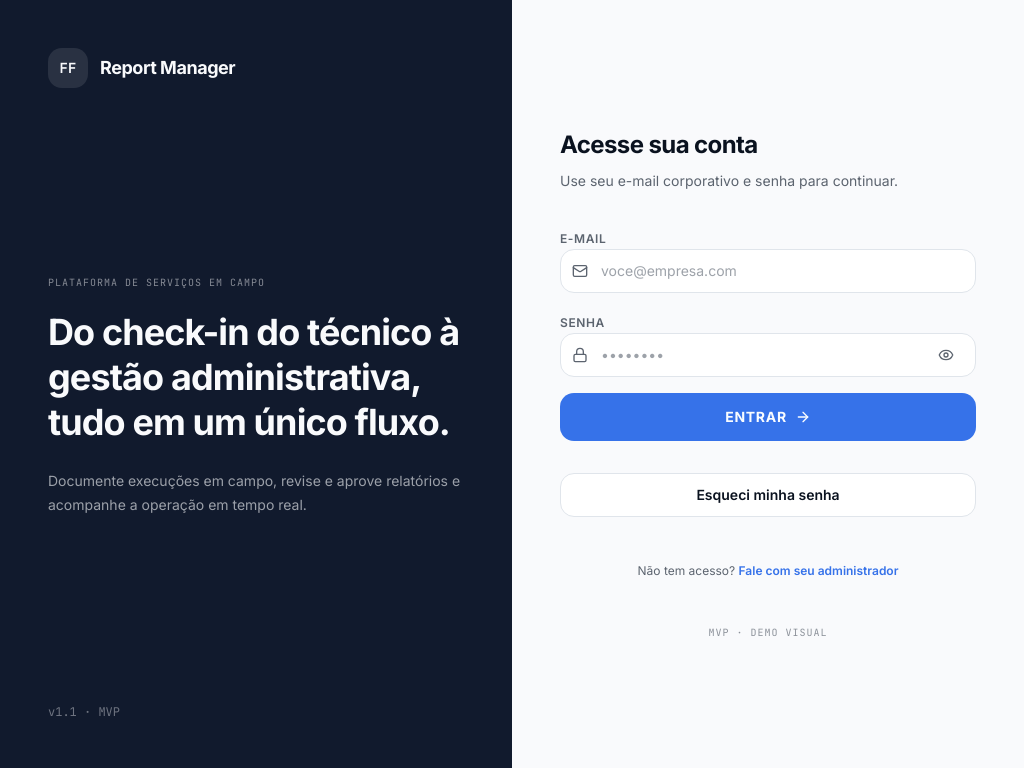
Scenario: App › shows a generic error for invalid mock credentials
In the field labelled "E-mail": (768, 270) [560,248,976,292], type "unknown@reportmanager.local"
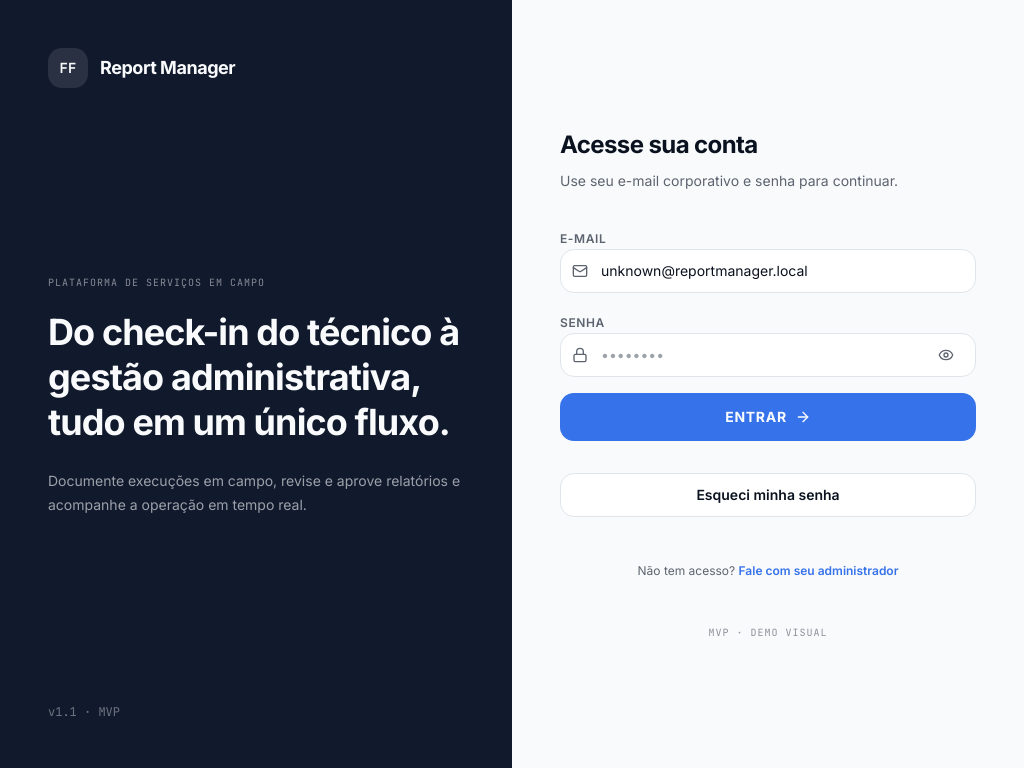
In the password field labelled "Senha": (768, 354) [560,332,976,376], type "incorrect"
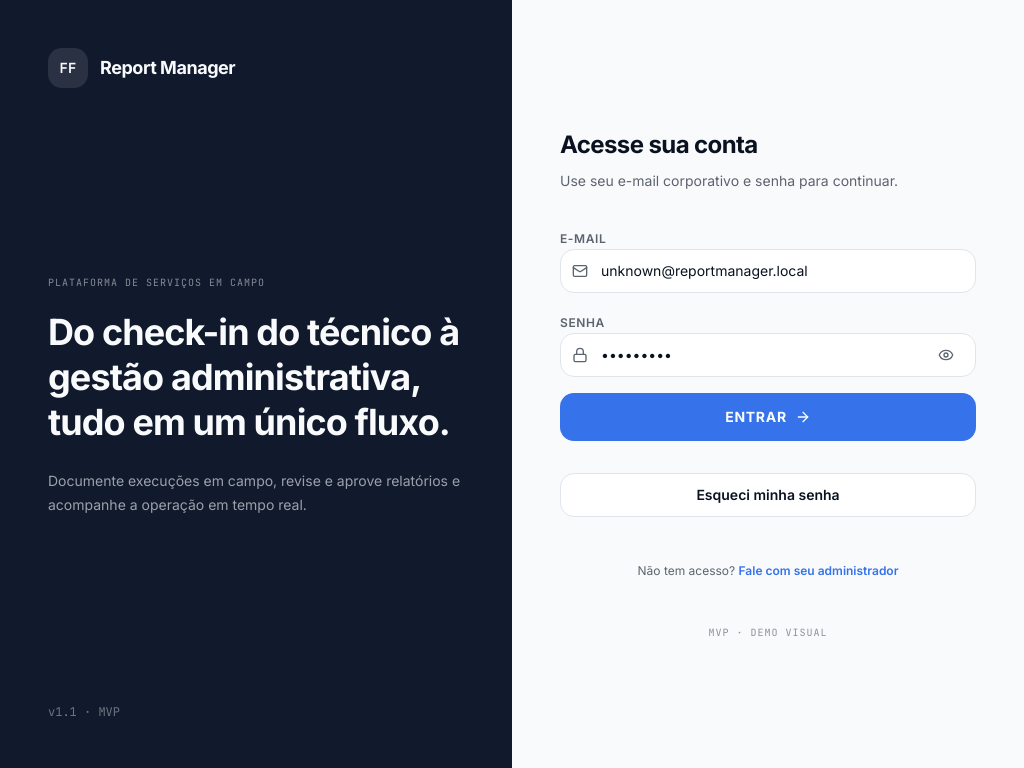
Click the button "Entrar": click(768, 416) [560,392,976,440]
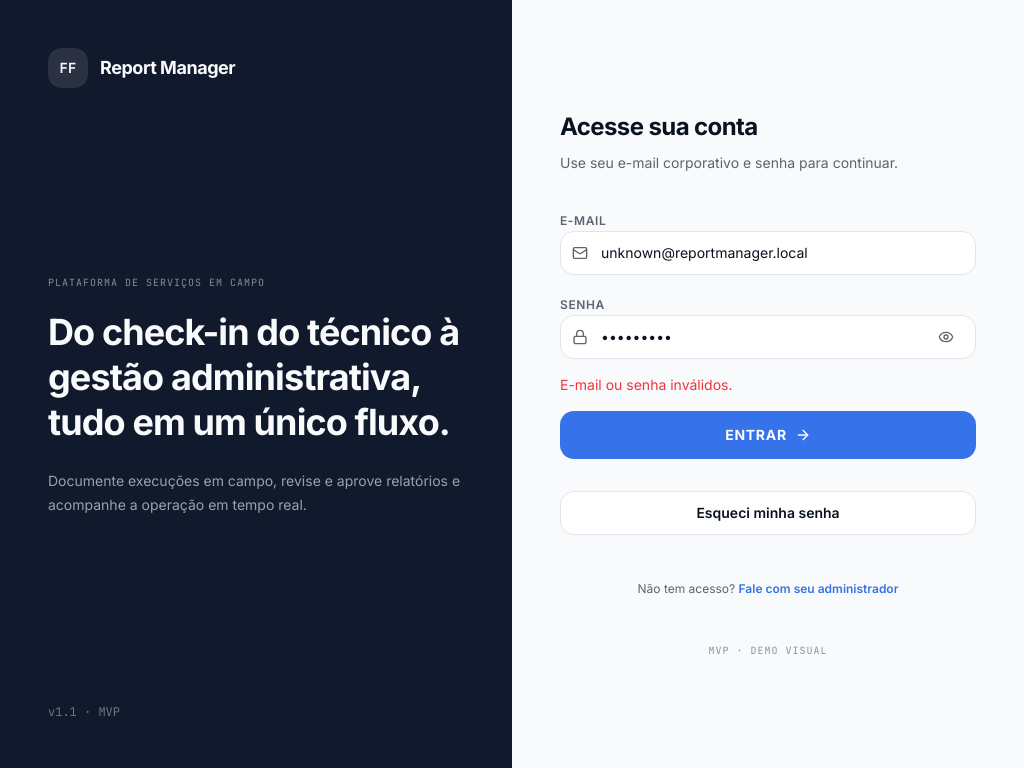
Expected: the heading "Acesse sua conta" is shown, [560,112,758,140]
Now the message reads "E-mail ou senha inválidos.", box [560,376,732,392]
